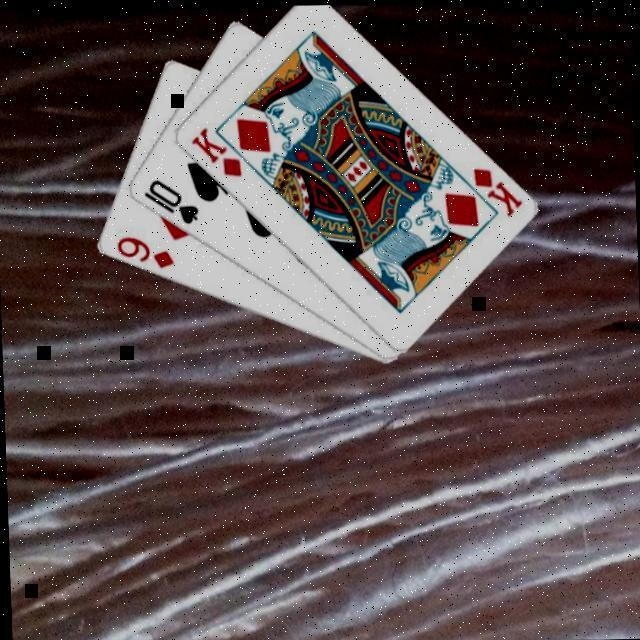10S: (138, 173, 202, 227)
9D: (113, 228, 177, 272)
KD: (187, 121, 244, 180), (469, 160, 526, 218)
